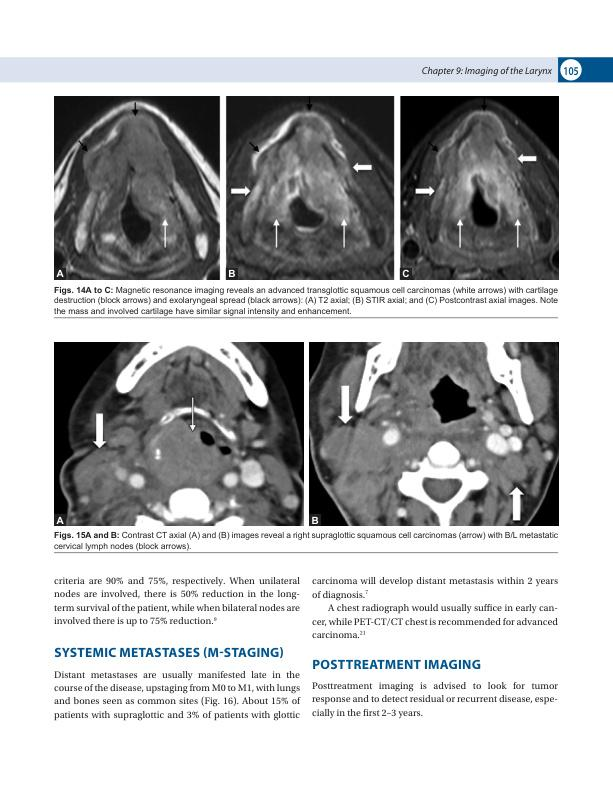caption: (53, 285, 559, 316), (53, 530, 559, 551), (55, 516, 65, 525), (56, 269, 65, 278), (228, 269, 236, 278), (402, 269, 410, 278), (311, 516, 319, 525)
header: (421, 66, 553, 77)
image: (53, 341, 304, 526), (309, 341, 559, 526), (226, 96, 395, 280), (54, 95, 220, 280), (400, 96, 560, 281)
section-heading: (54, 646, 284, 659), (312, 659, 482, 671)
text: (311, 576, 558, 640), (53, 576, 301, 628), (53, 670, 301, 722), (311, 681, 559, 720)
